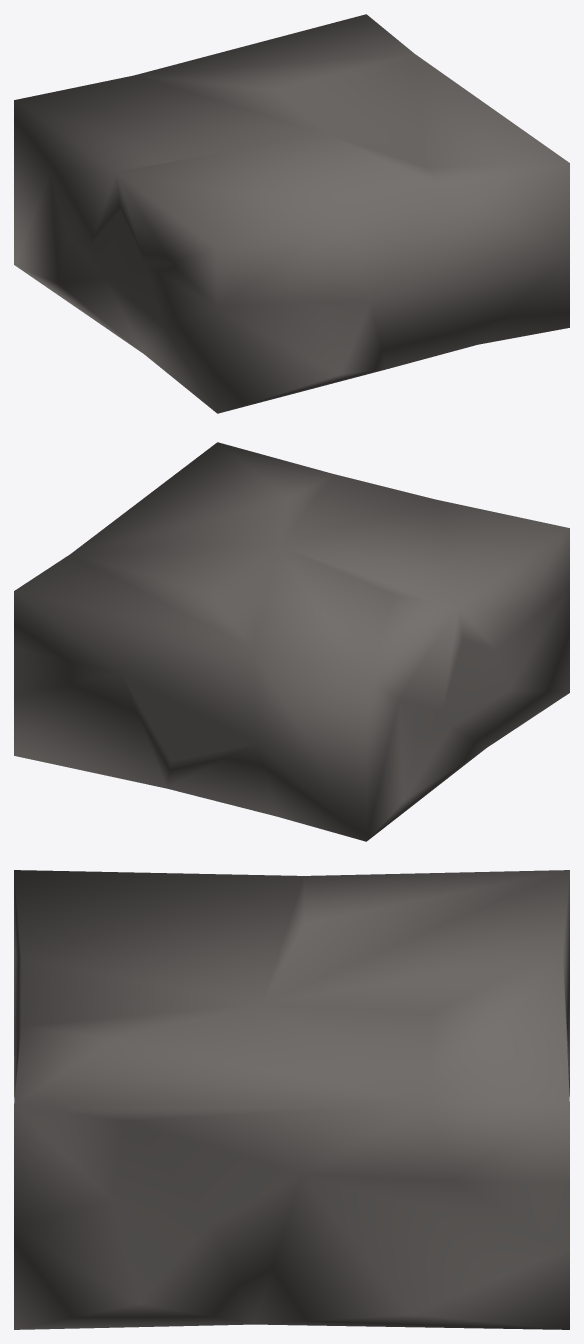
Rendered from underrock_2.glb.
The picture shows the model from 3 angles, top to bottom: view 1: azimuth 30°, elevation 25°; view 2: azimuth 150°, elevation 25°; view 3: azimuth 270°, elevation 25°; orthographic projection. The views are drawn at different scales.
Visible parts, largest first — view 1: underrock_2; view 2: underrock_2; view 3: underrock_2.
Boxes of the visible parts, x1,y1,x2,y2 form: underrock_2: (14,14,569,413); underrock_2: (14,442,569,841); underrock_2: (14,870,569,1329).
Bounding box in the file's own units: 2.8 × 1.25 × 2.8.
Materials: 1 (1 with a texture image).
